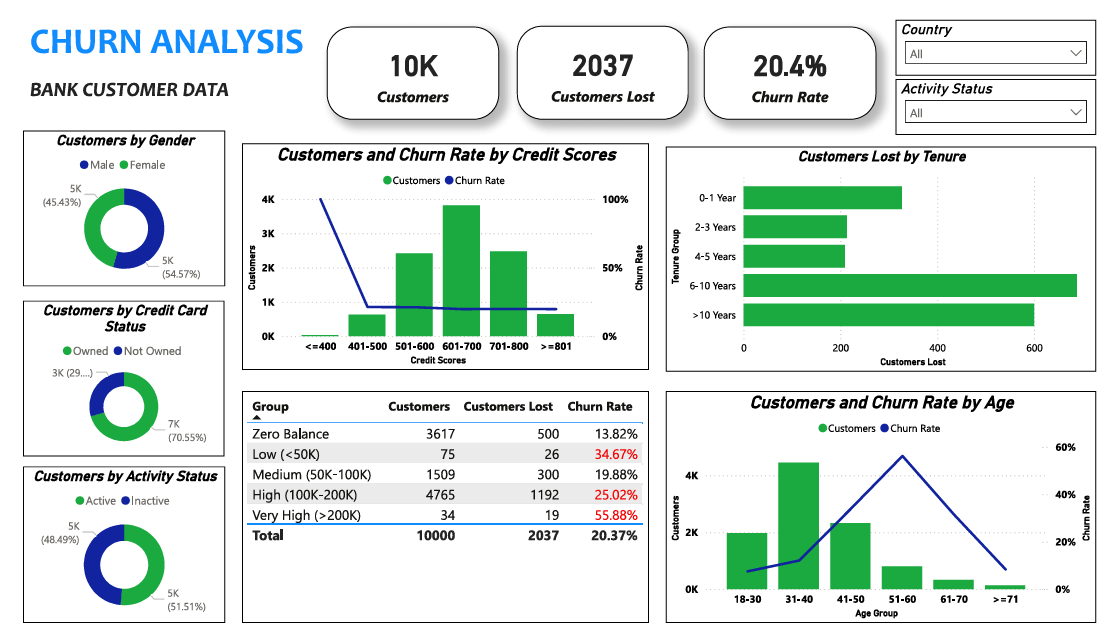

The page's visual inventory and layout, read from the dashboard file:
{"tool":"powerbi","page":{"name":"Page 2","canvas":[1280,720],"ordinal":1},"visuals":[{"type":"lineClusteredColumnComboChart","title":"Customers and Churn Rate by Credit Scores","fields":{"Y2":["Bank Customer Churn Prediction.Churn Rate"],"Y":["Bank Customer Churn Prediction.Total Customers"],"Category":["Credit Score Group.Credit Scores"]},"box":[269.8,152.8,481.7,268.4],"z":0},{"type":"lineClusteredColumnComboChart","title":"Customers and Churn Rate by Age","fields":{"Y2":["Bank Customer Churn Prediction.Churn Rate"],"Y":["Bank Customer Churn Prediction.Total Customers"],"Category":["Age Groups (2).Age Group"]},"box":[770.8,445.9,509.2,273.9],"z":1000},{"type":"donutChart","title":"Customers by Gender","fields":{"Y":["Bank Customer Churn Prediction.Total Customers"],"Category":["Bank Customer Churn Prediction.gender"]},"box":[11,137.6,239.5,184.4],"z":2000},{"type":"textbox","box":[13.8,0,356.5,125.2],"z":3000},{"type":"card","fields":{"Values":["Bank Customer Churn Prediction.Customers"]},"box":[370.2,15.1,203.7,110.1],"z":4000},{"type":"donutChart","title":"Customers by Activity Status","fields":{"Y":["Bank Customer Churn Prediction.Total Customers"],"Category":["Bank Customer Churn Prediction.active_member"]},"box":[11,535.4,239.5,184.4],"z":5000},{"type":"donutChart","title":"Customers by Credit Card Status","fields":{"Y":["Bank Customer Churn Prediction.Total Customers"],"Category":["Bank Customer Churn Prediction.credit_card"]},"box":[11,338.6,238.1,184.4],"z":6000},{"type":"tableEx","fields":{"Values":["Acct Balance Group.Group","Bank Customer Churn Prediction.Customers","Bank Customer Churn Prediction.Customers Lost","Bank Customer Churn Prediction.Churn Rate"]},"box":[269.8,445.9,481.7,273.9],"z":7000},{"type":"card","fields":{"Values":["Bank Customer Churn Prediction.Customers Lost"]},"box":[594.6,13.8,203.7,111.5],"z":8000},{"type":"card","fields":{"Values":["Bank Customer Churn Prediction.Churn Rate"]},"box":[816.2,15.1,203.7,110.1],"z":9000},{"type":"slicer","title":"Country","fields":{"Values":["Bank Customer Churn Prediction.country"]},"box":[1043.3,6.9,236.7,66.1],"z":10000},{"type":"barChart","title":"Customers Lost by Tenure ","fields":{"Category":["Tenure Group.Tenure Group"],"Y":["Bank Customer Churn Prediction.Customers Lost"]},"box":[770.8,156.9,509.2,265.6],"z":11000},{"type":"slicer","title":"Activity Status","fields":{"Values":["Bank Customer Churn Prediction.active_member"]},"box":[1043.3,77.1,236.7,66.1],"z":11001}]}

Visuals, with their boxes in screenshot pixels (x1, y1, x2, y2), scaled from the page's 1280x720 canvas onto the 1106x630 screenshot:
"Customers and Churn Rate by Credit Scores" lineClusteredColumnComboChart: rect(233, 134, 649, 369)
"Customers and Churn Rate by Age" lineClusteredColumnComboChart: rect(666, 390, 1105, 629)
"Customers by Gender" donutChart: rect(10, 120, 216, 282)
textbox: rect(12, 0, 320, 110)
card - Bank Customer Churn Prediction.Customers: rect(320, 13, 496, 110)
"Customers by Activity Status" donutChart: rect(10, 468, 216, 629)
"Customers by Credit Card Status" donutChart: rect(10, 296, 215, 458)
tableEx - Acct Balance Group.Group x Bank Customer Churn Prediction.Customers: rect(233, 390, 649, 629)
card - Bank Customer Churn Prediction.Customers Lost: rect(514, 12, 690, 110)
card - Bank Customer Churn Prediction.Churn Rate: rect(705, 13, 881, 110)
"Country" slicer: rect(901, 6, 1105, 64)
"Customers Lost by Tenure " barChart: rect(666, 137, 1105, 370)
"Activity Status" slicer: rect(901, 67, 1105, 125)
